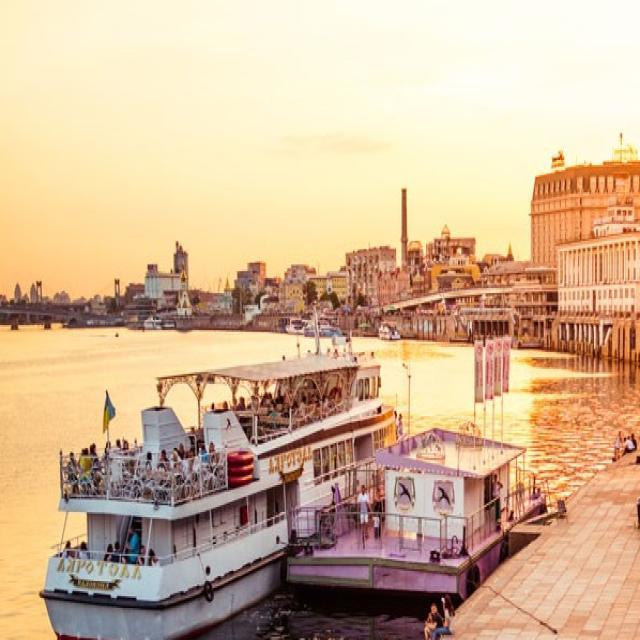passenger ship: (52, 320, 406, 640)
